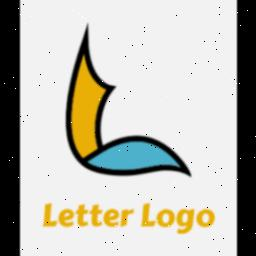l: (48, 20, 194, 192)
